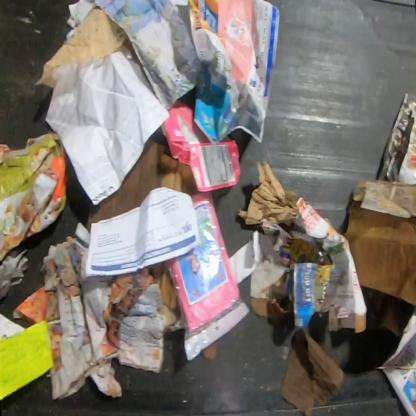cardboard: (87, 138, 199, 224), (344, 179, 416, 309), (0, 130, 68, 264), (162, 103, 241, 194), (280, 327, 345, 416), (236, 161, 298, 226), (152, 260, 178, 310)
soft_plastic: (165, 192, 250, 364)
